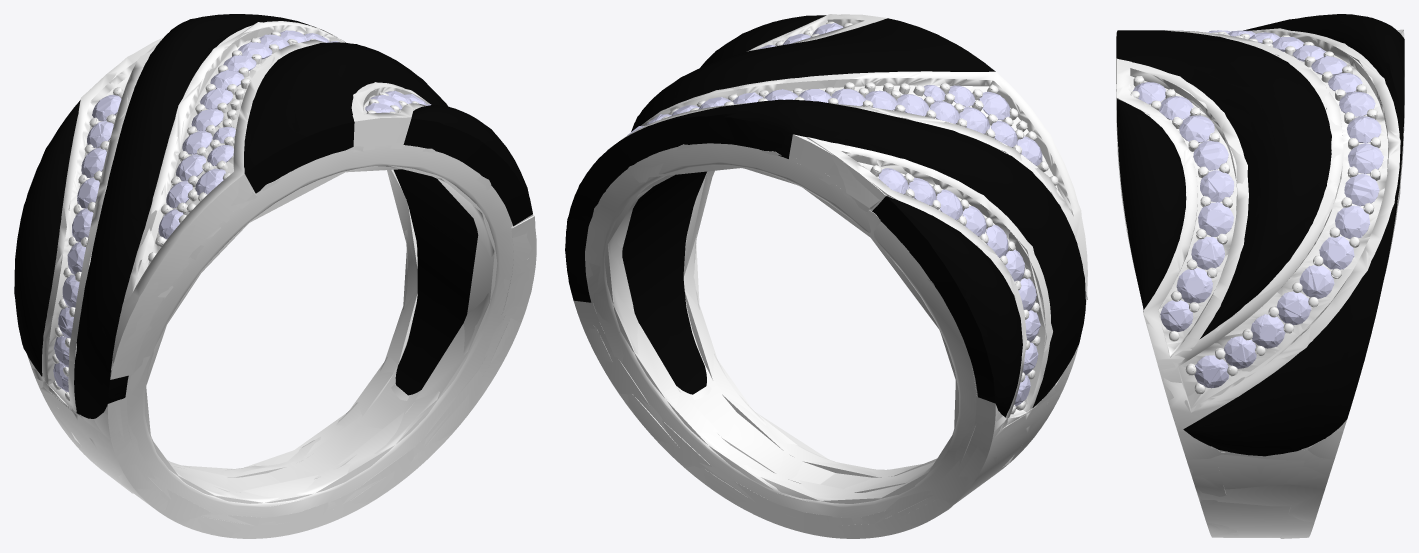
The model's file is DLR-D000677834.glb.
3 views of the same model, side by side, from view 1: azimuth 30°, elevation 25°; view 2: azimuth 150°, elevation 25°; view 3: azimuth 270°, elevation 25° (orthographic). The views are drawn at different scales.
Parts seen in each view (by area): view 1: highPolyMesh, lowPolyMesh; view 2: highPolyMesh, lowPolyMesh; view 3: highPolyMesh, lowPolyMesh.
Boxes of the visible parts, left/top/right/bottom form: highPolyMesh: left=14, top=14, right=536, bottom=538; lowPolyMesh: left=14, top=15, right=536, bottom=538; highPolyMesh: left=565, top=14, right=1087, bottom=538; lowPolyMesh: left=565, top=14, right=1087, bottom=538; highPolyMesh: left=1116, top=14, right=1404, bottom=537; lowPolyMesh: left=1116, top=15, right=1404, bottom=538.
Bounding box in the file's own units: 0.0228 × 0.0226 × 0.0124.
